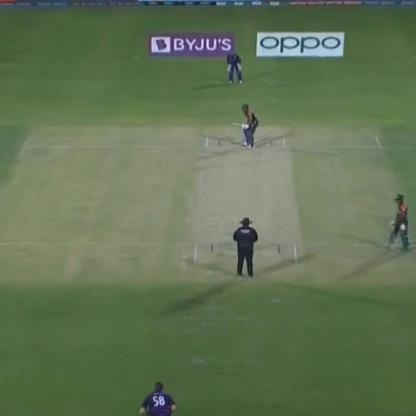bat: (226, 118, 248, 131)
pitch: (197, 140, 298, 274)
